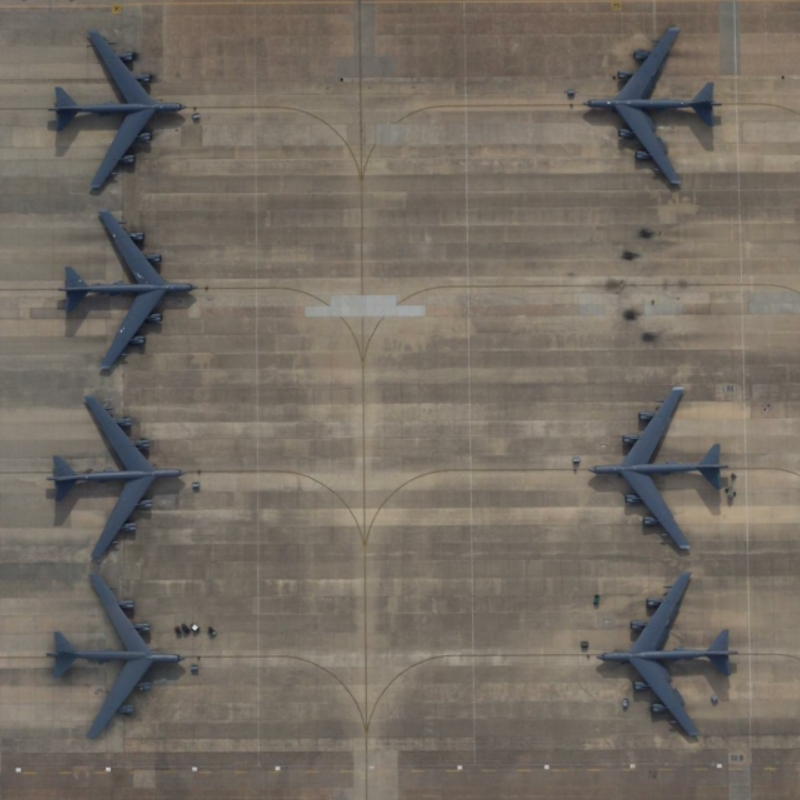A8: (567, 18, 732, 200), (583, 374, 734, 561), (38, 566, 192, 745), (43, 382, 189, 570), (54, 205, 206, 380), (38, 24, 193, 194), (588, 570, 738, 745)
